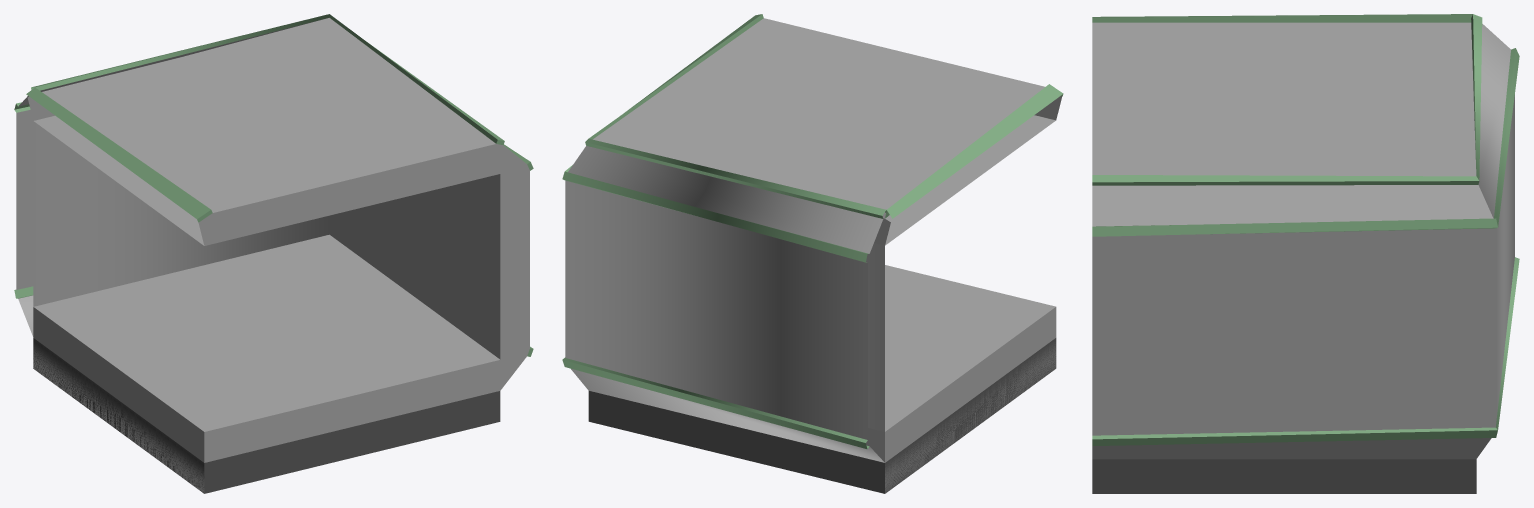
The model's file is ExteriorBase_Corner.fbx.
3 renders of one model, left to right at view 1: azimuth 30°, elevation 25°; view 2: azimuth 150°, elevation 25°; view 3: azimuth 270°, elevation 25°, orthographic. The views are drawn at different scales.
Visible parts, largest first — view 1: ExteriorBase_Corner; view 2: ExteriorBase_Corner; view 3: ExteriorBase_Corner.
Part boxes in pixels (x1=…): ExteriorBase_Corner: x1=14, y1=14, x2=533, y2=493; ExteriorBase_Corner: x1=562, y1=14, x2=1063, y2=493; ExteriorBase_Corner: x1=1092, y1=14, x2=1519, y2=493.
Bounding box in the file's own units: 1137 × 912 × 1112.
